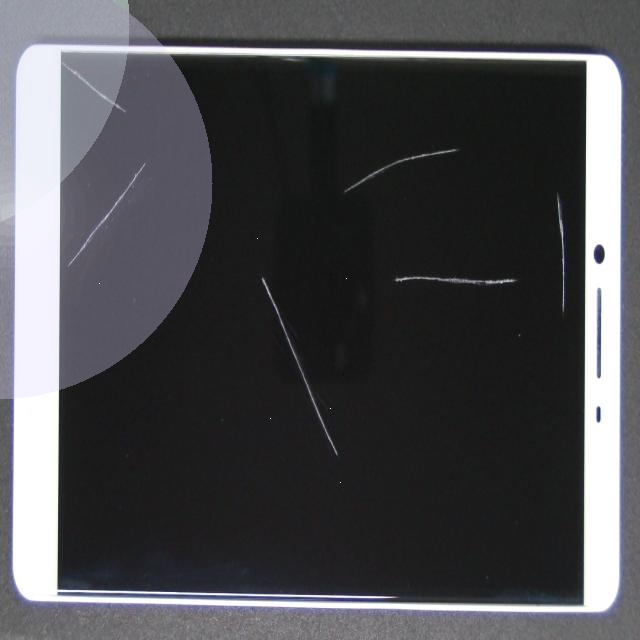scratch: (138, 88, 388, 366), (123, 14, 191, 263)
